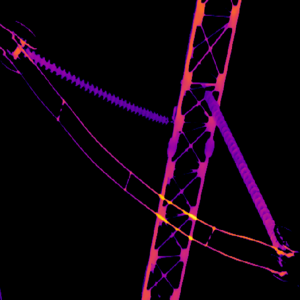insulator: (203, 88, 284, 249), (22, 45, 168, 124)
